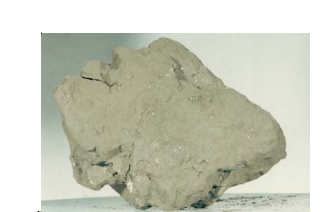Breccia: (48, 36, 282, 205)
